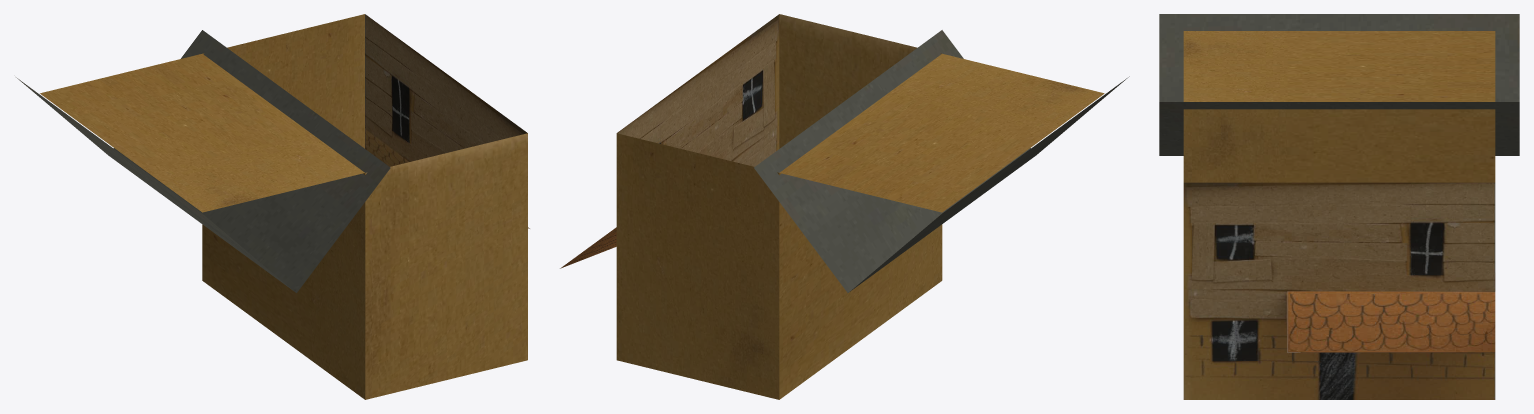
The model's file is ollie.gltf.
3 renders of one model, left to right at view 1: azimuth 30°, elevation 25°; view 2: azimuth 150°, elevation 25°; view 3: azimuth 270°, elevation 25°, orthographic. The views are drawn at different scales.
Visible parts, largest first — view 1: Cube, Cube.002, Cube.003, Cube.001; view 2: Cube, Cube.002, Cube.003, Cube.001; view 3: Cube, Cube.002, Cube.003, Cube.001.
Boxes of the visible parts, <box> form: Cube: <box>202,133,529,399</box>; Cube.002: <box>40,30,390,292</box>; Cube.003: <box>203,14,527,166</box>; Cube.001: <box>16,77,294,291</box>; Cube: <box>560,133,942,399</box>; Cube.002: <box>754,30,1104,292</box>; Cube.003: <box>617,14,941,166</box>; Cube.001: <box>850,76,1129,291</box>; Cube: <box>1183,182,1495,399</box>; Cube.002: <box>1159,14,1519,101</box>; Cube.003: <box>1183,109,1495,182</box>; Cube.001: <box>1159,102,1519,155</box>.
Size of the model in its own units: 18.22 by 10.5 by 15.04.
Materials: 1 (1 with a texture image).
